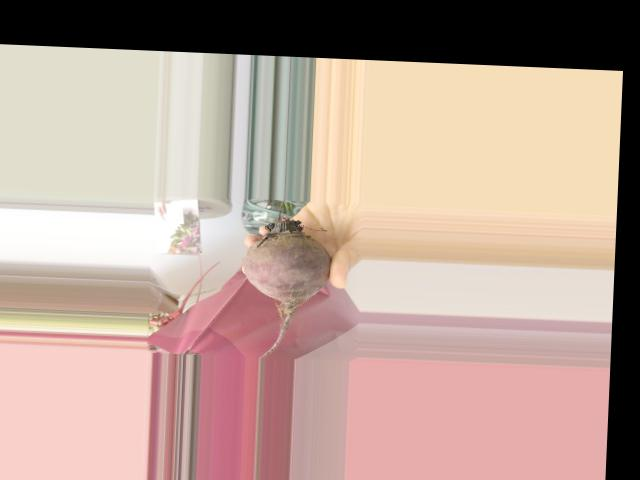beet: (238, 198, 333, 360)
